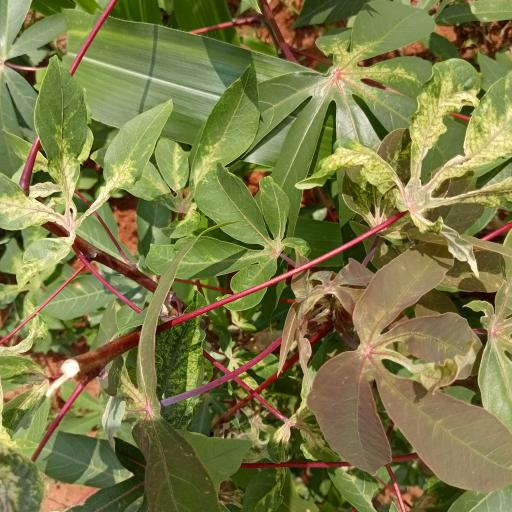Cassava_Brown_Leaf_Spot: (329, 68, 512, 250)
Cassava_Healthy: (2, 60, 165, 267), (149, 165, 308, 295)
